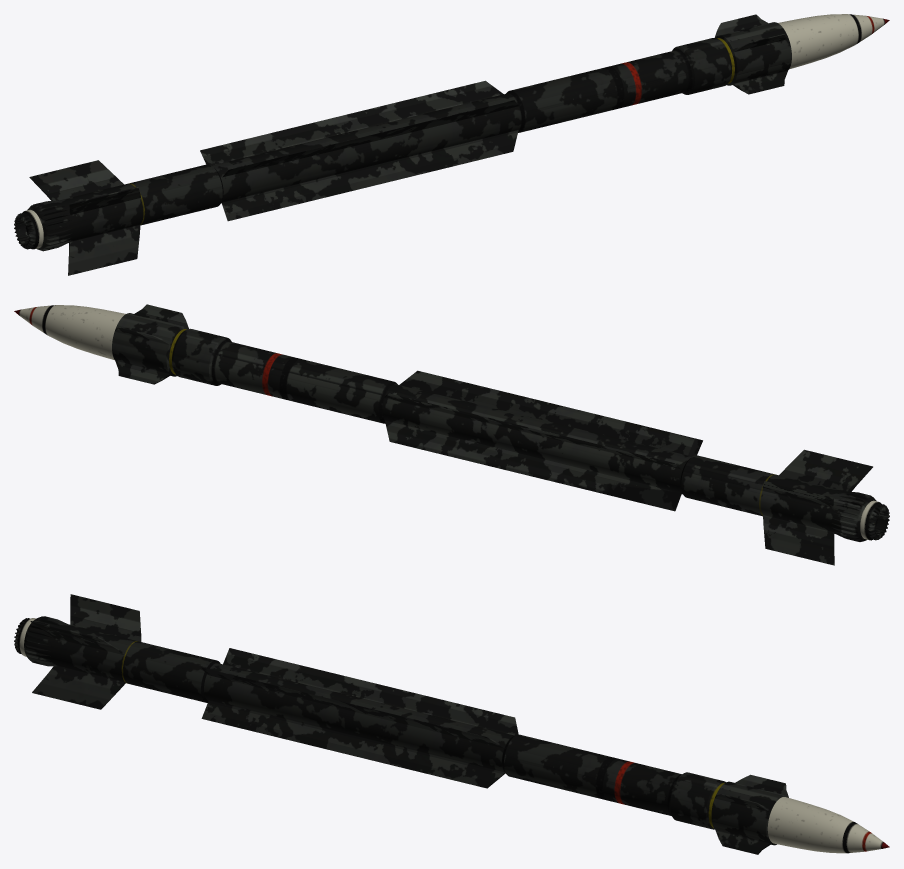
File: MicaMissile.fbx
3 renders of one model, top to bottom at view 1: azimuth 30°, elevation 25°; view 2: azimuth 150°, elevation 25°; view 3: azimuth 330°, elevation 25°, orthographic.
Parts seen in each view (by area): view 1: mica-missile; view 2: mica-missile; view 3: mica-missile.
Part boxes in pixels (x1,y1,x2,y2): mica-missile: [14, 14, 889, 275]; mica-missile: [14, 304, 889, 565]; mica-missile: [14, 594, 889, 854].
Size of the model in its own units: 16.13 by 200 by 16.13.
1 material, 1 textured.
